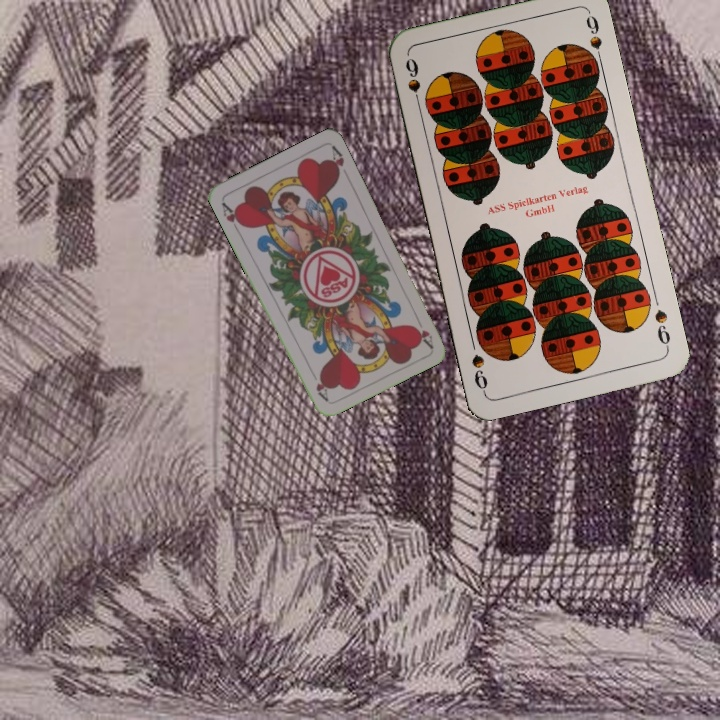HA: (218, 198, 246, 235), (410, 311, 436, 350)
S9: (401, 53, 424, 112), (650, 305, 673, 352)
